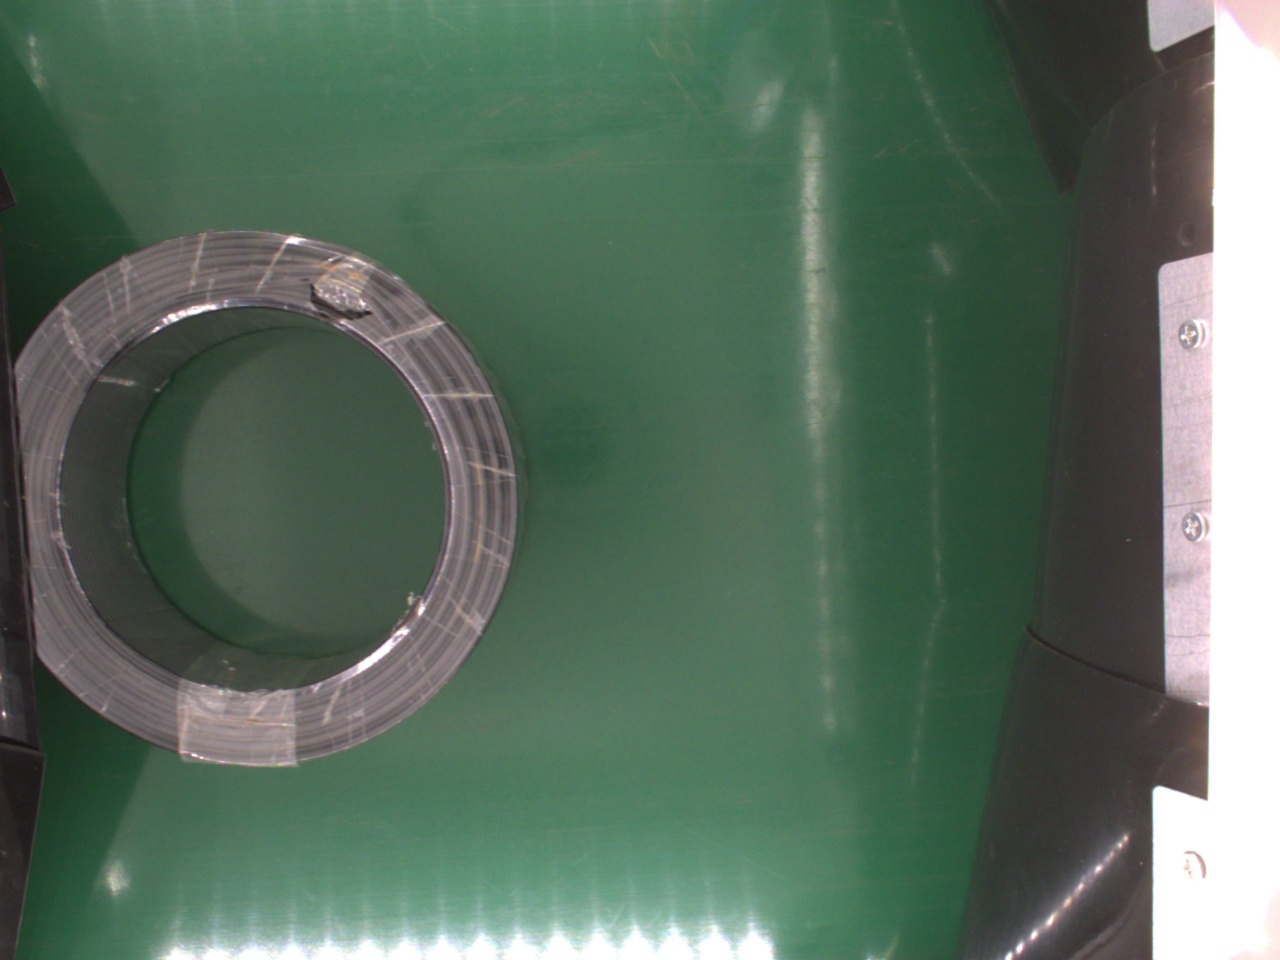black: (29, 229, 520, 770)
